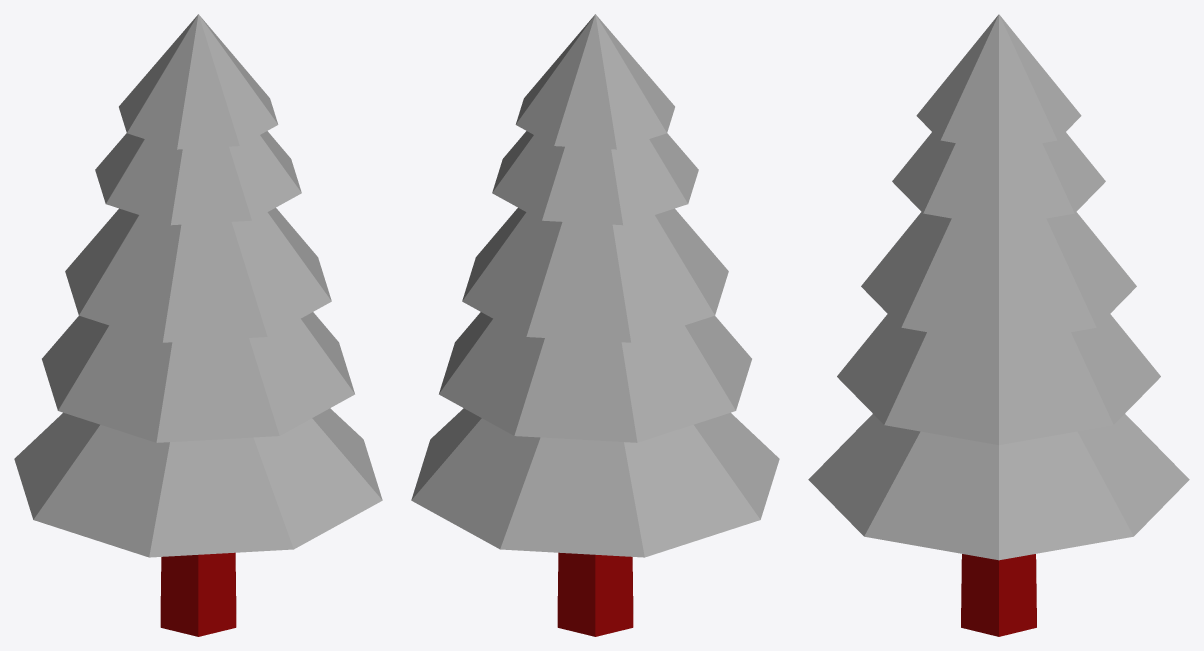
Rendered from Three_4.fbx.
3 renders of one model, left to right at view 1: azimuth 30°, elevation 25°; view 2: azimuth 150°, elevation 25°; view 3: azimuth 270°, elevation 25°, orthographic.
Parts seen in each view (by area): view 1: pCylinder2; view 2: pCylinder2; view 3: pCylinder2.
Boxes of the visible parts, x1=… form: pCylinder2: x1=14, y1=14, x2=382, y2=636; pCylinder2: x1=411, y1=14, x2=779, y2=636; pCylinder2: x1=808, y1=14, x2=1189, y2=636.
Size of the model in its own units: 8.73 by 15.26 by 8.73.
